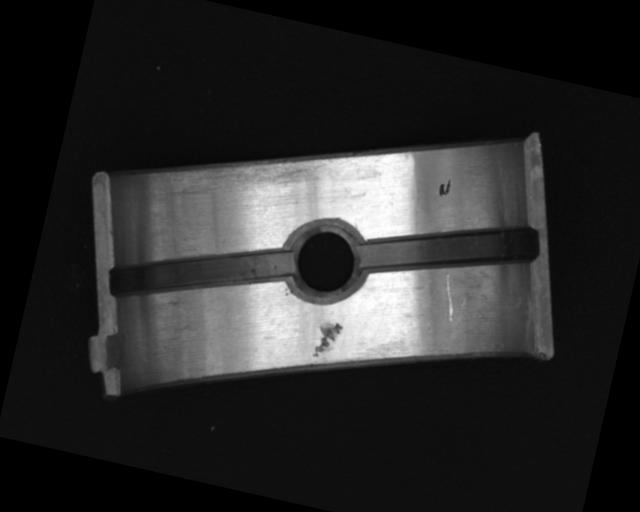blot: (436, 177, 453, 198)
bruise: (309, 318, 343, 363)
gap: (107, 215, 296, 331), (357, 194, 540, 304)
hole: (280, 212, 370, 308)
nick: (436, 271, 464, 324)
scratch: (158, 122, 328, 229)
